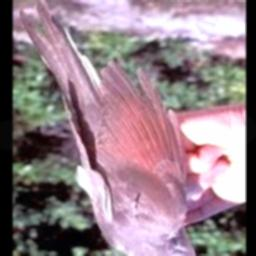Cuckoo: (21, 0, 240, 256)
